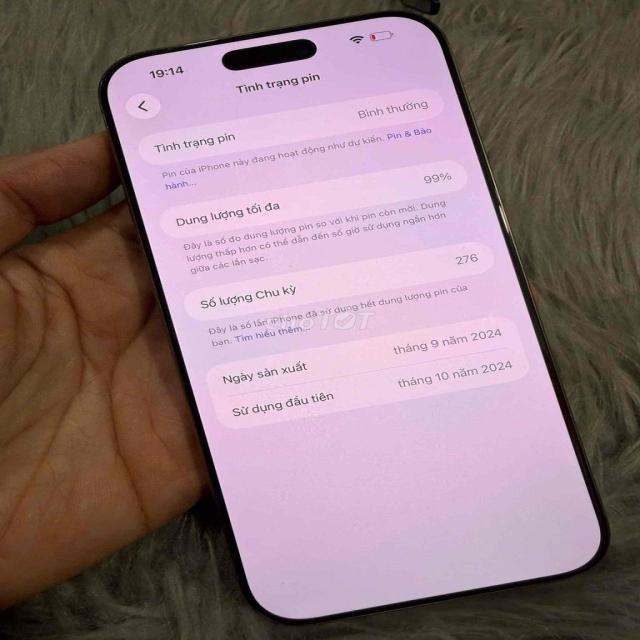gen_16: (100, 11, 605, 621)
